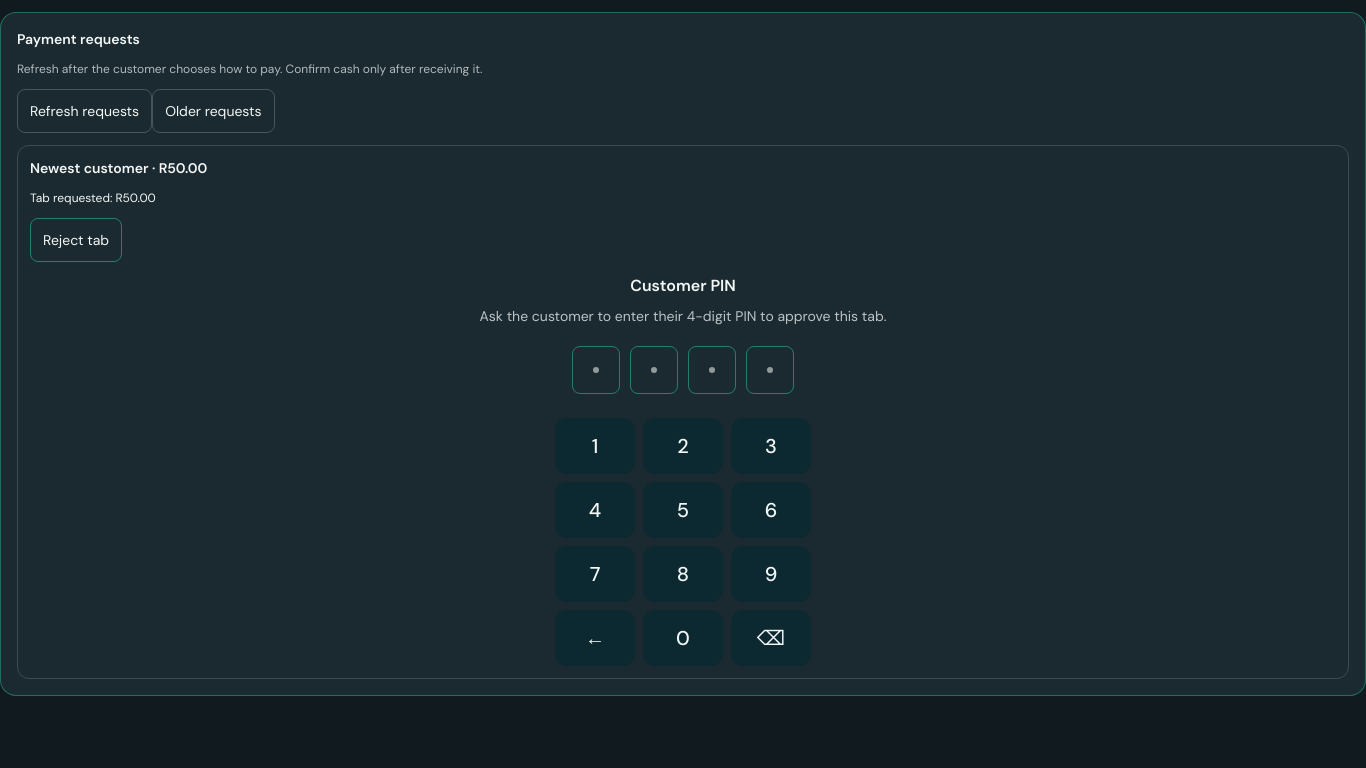
owner payment interactions › preserves keypad feedback for pin_locked across the parent's busy render
The width and height of the screenshot is (1366, 768).
Check: the text "Newest customer · R50.00" is shown, box [30,159,207,177]
Check: the button "Older requests" is enabled, box [152,89,275,133]
Click the button named "Enter 1" at x=595, y=446, box [555,418,635,474]
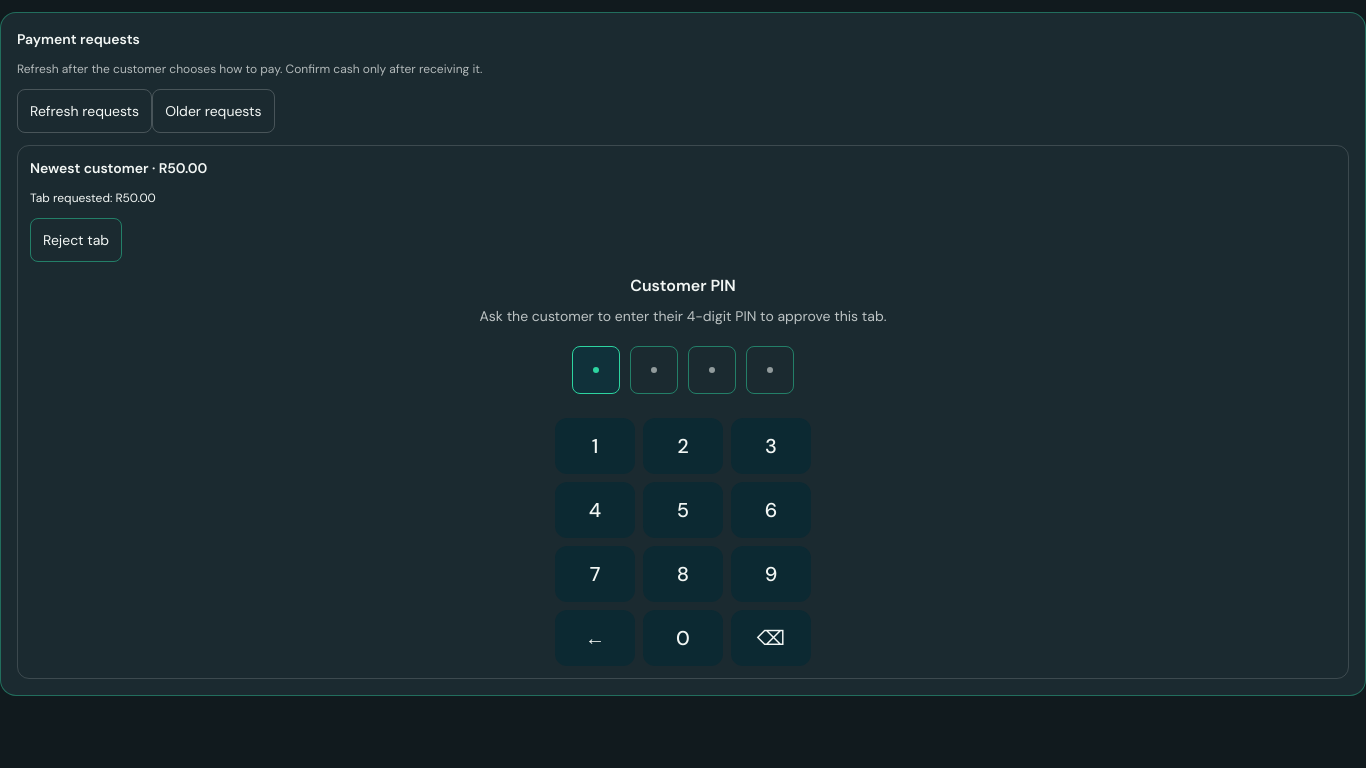
Click the button "2" at x=683, y=446, box [643,418,723,474]
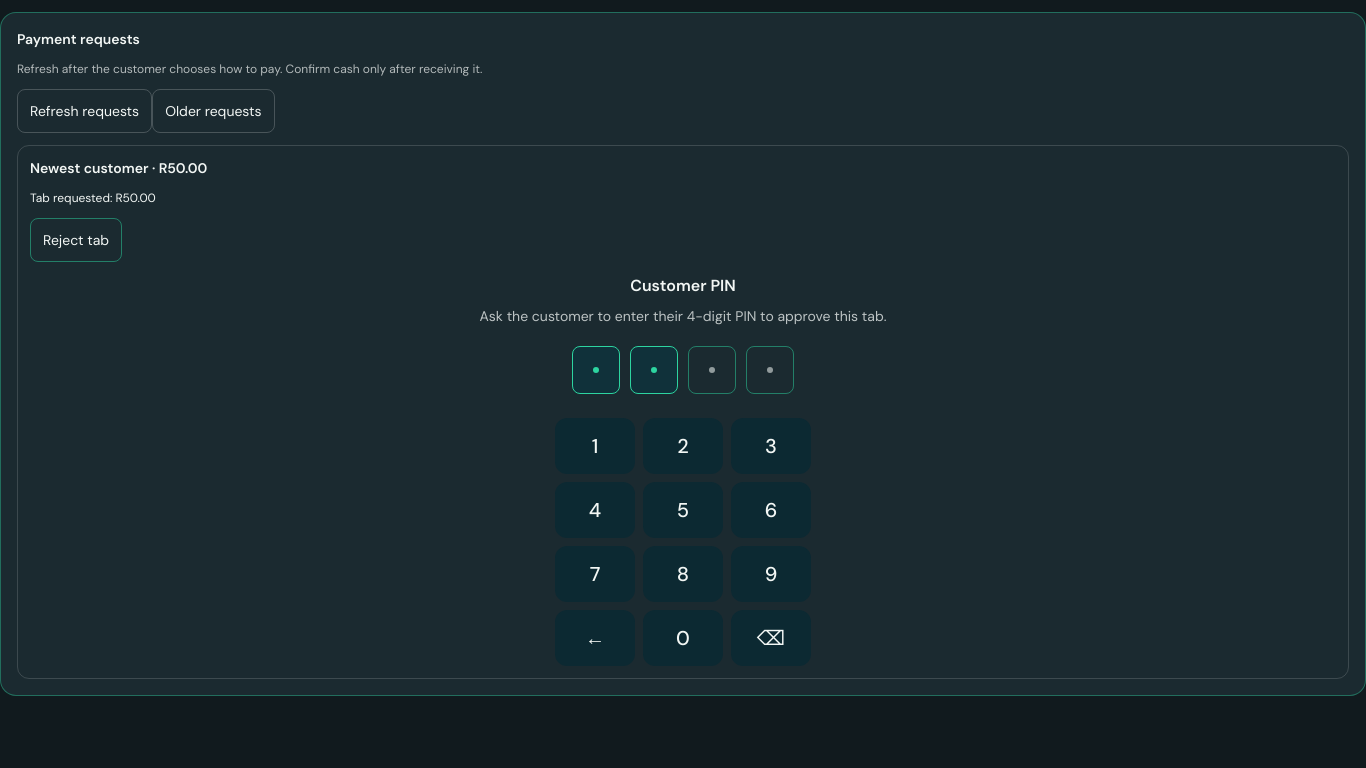
Click the button "3" at x=771, y=446, box [731,418,811,474]
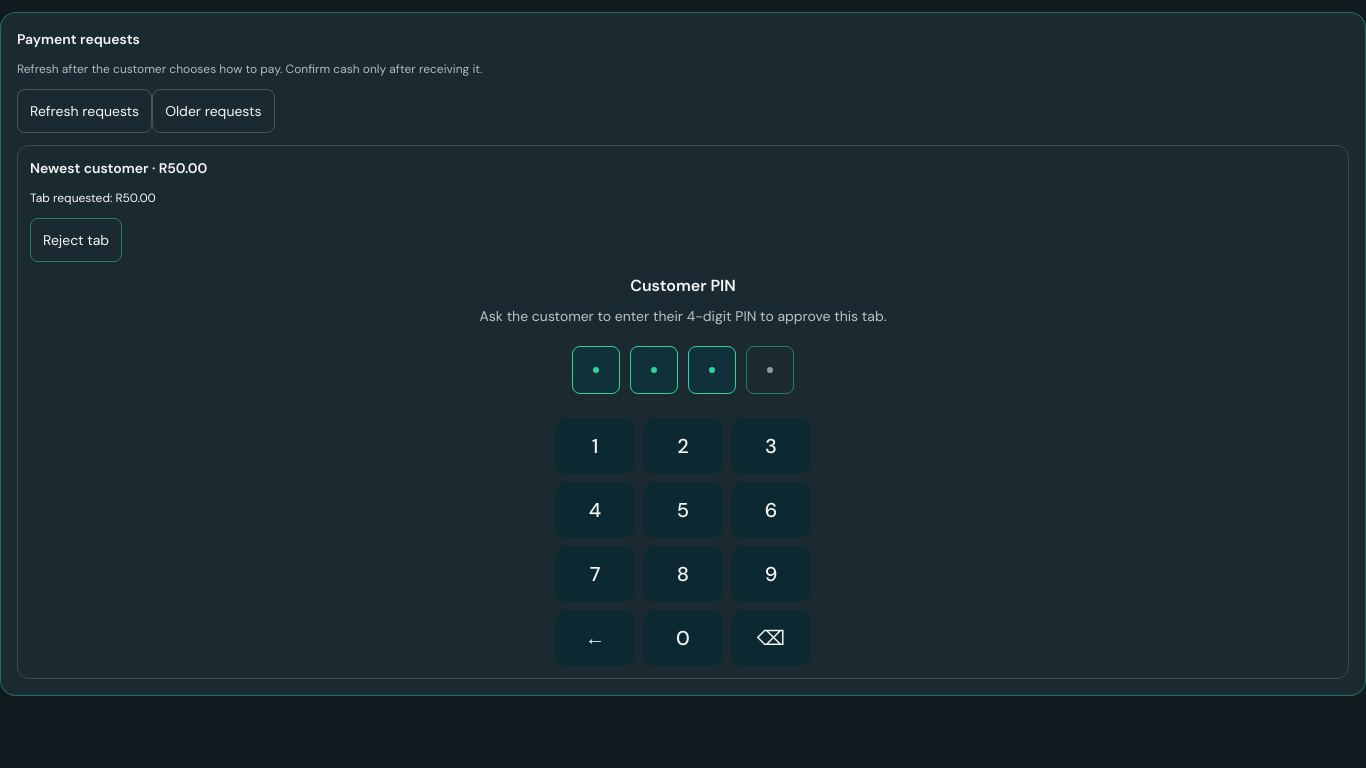
Click the button "4" at x=595, y=510, box [555,482,635,538]
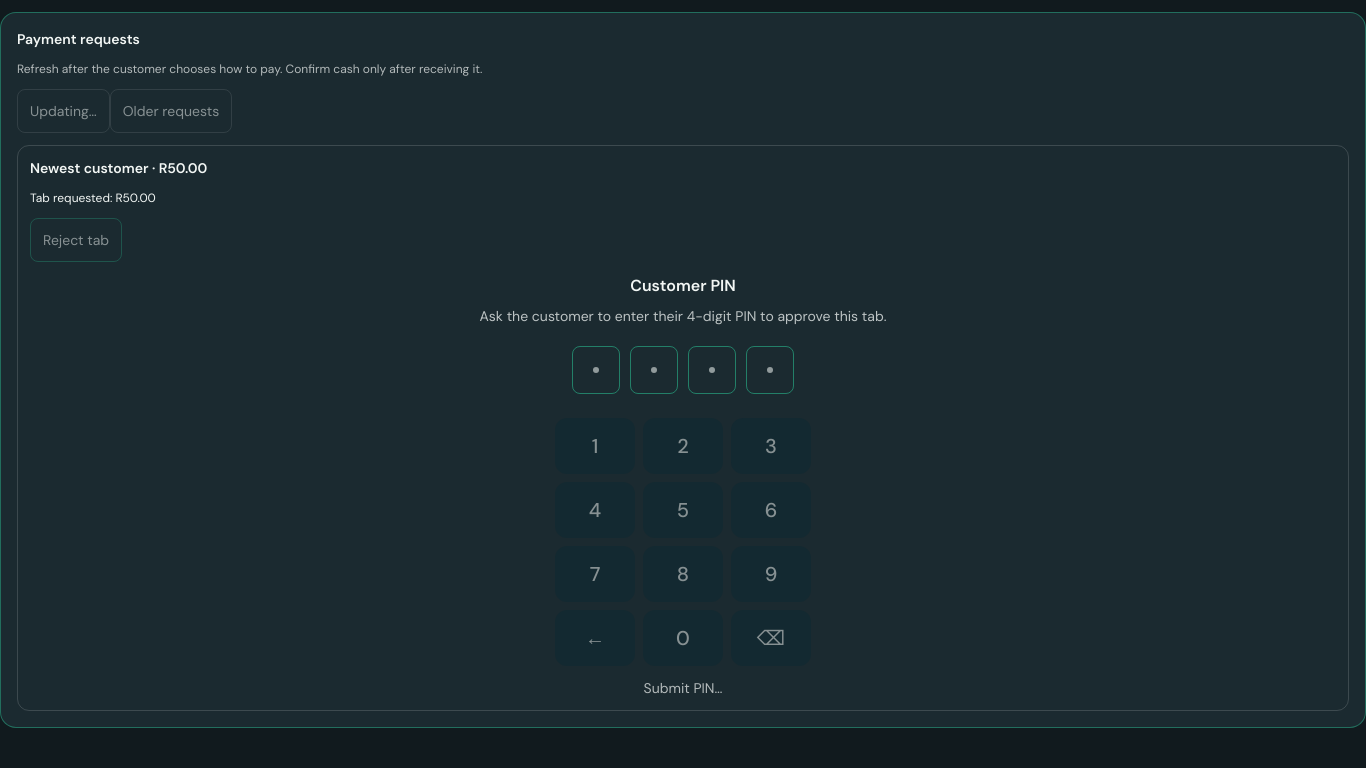
Check: the button named "Enter 1" is disabled
Click the button named "Enter 1" at x=595, y=446, box [555,418,635,474]
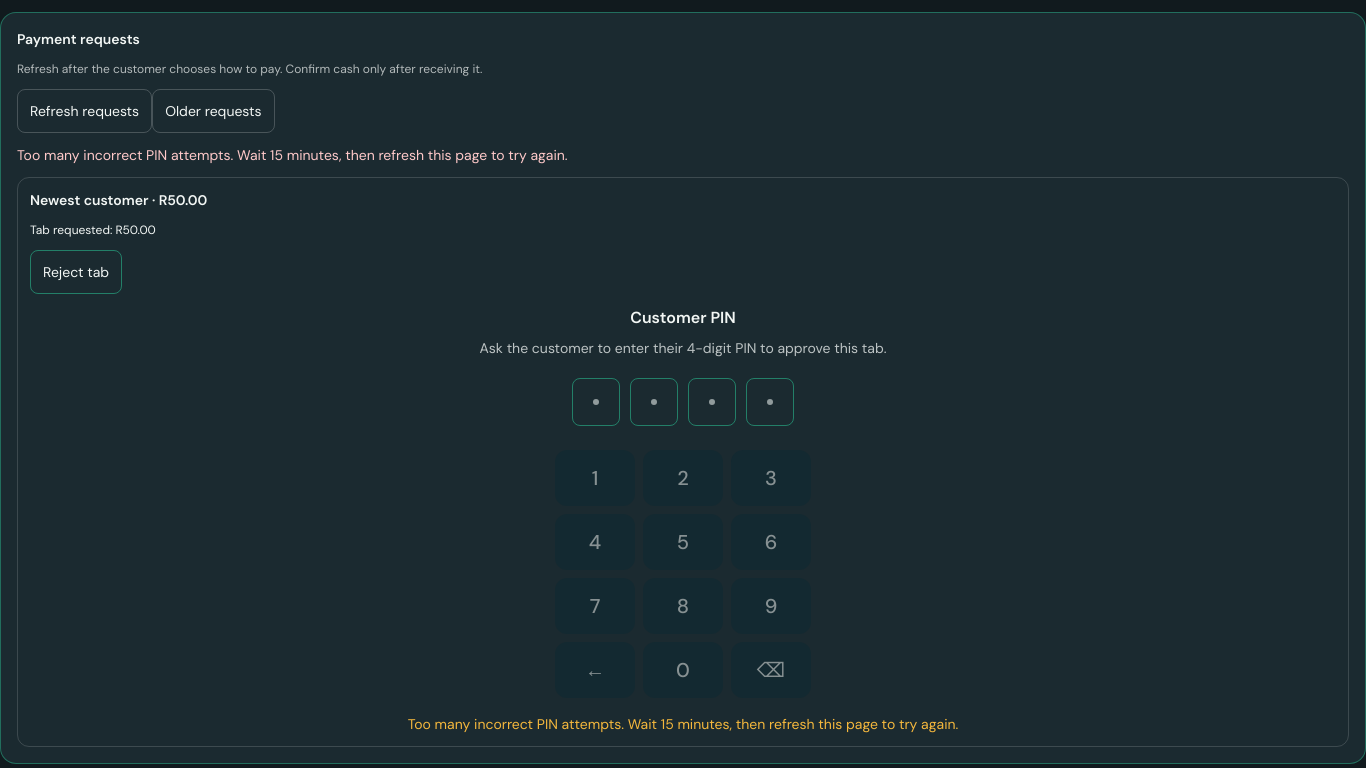
Check: the button named "Enter 1" is disabled, box [555,450,635,506]
Check: the number of messages is 2, box [17,146,568,164]; [408,715,958,733]
